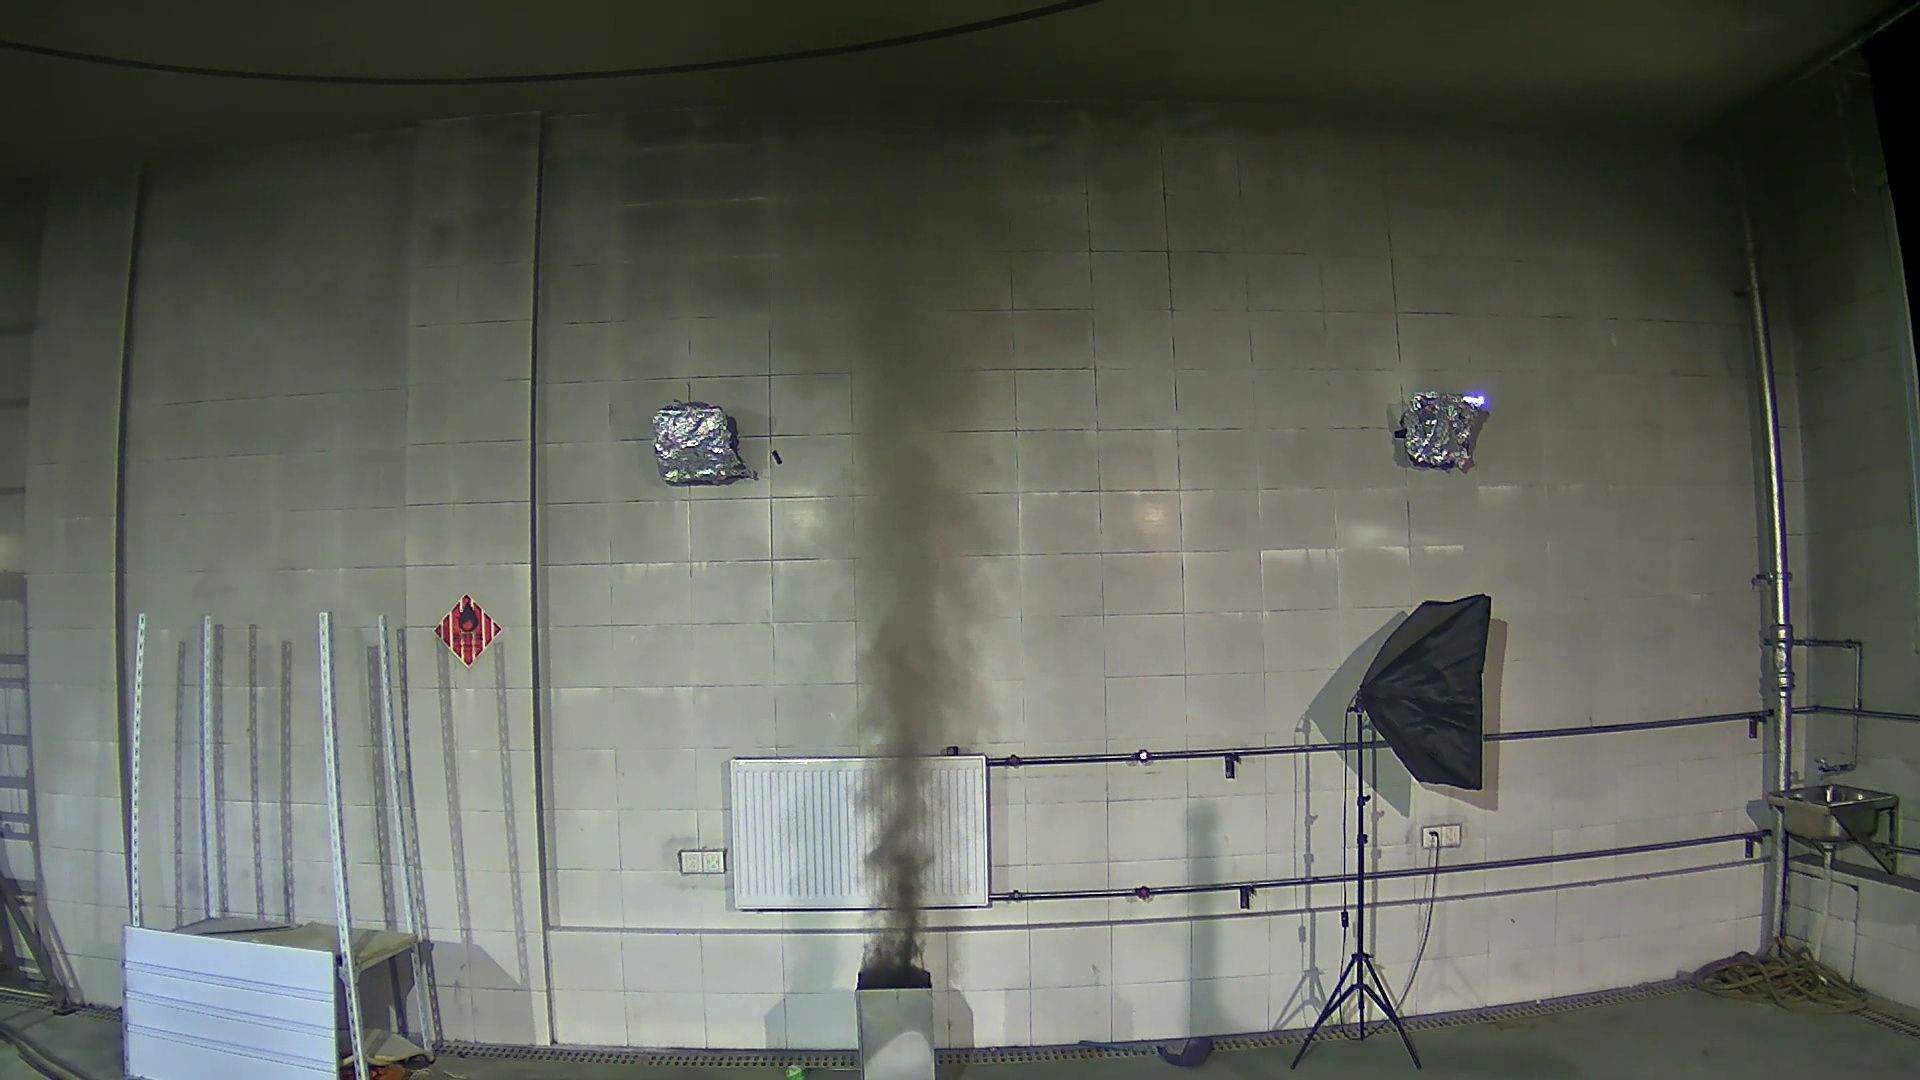smoke: (781, 102, 982, 972)
